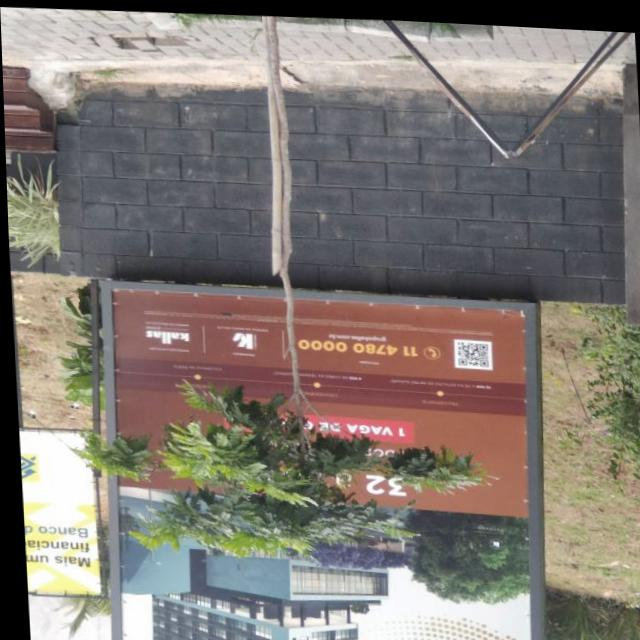qrcode: (454, 336, 485, 362)
